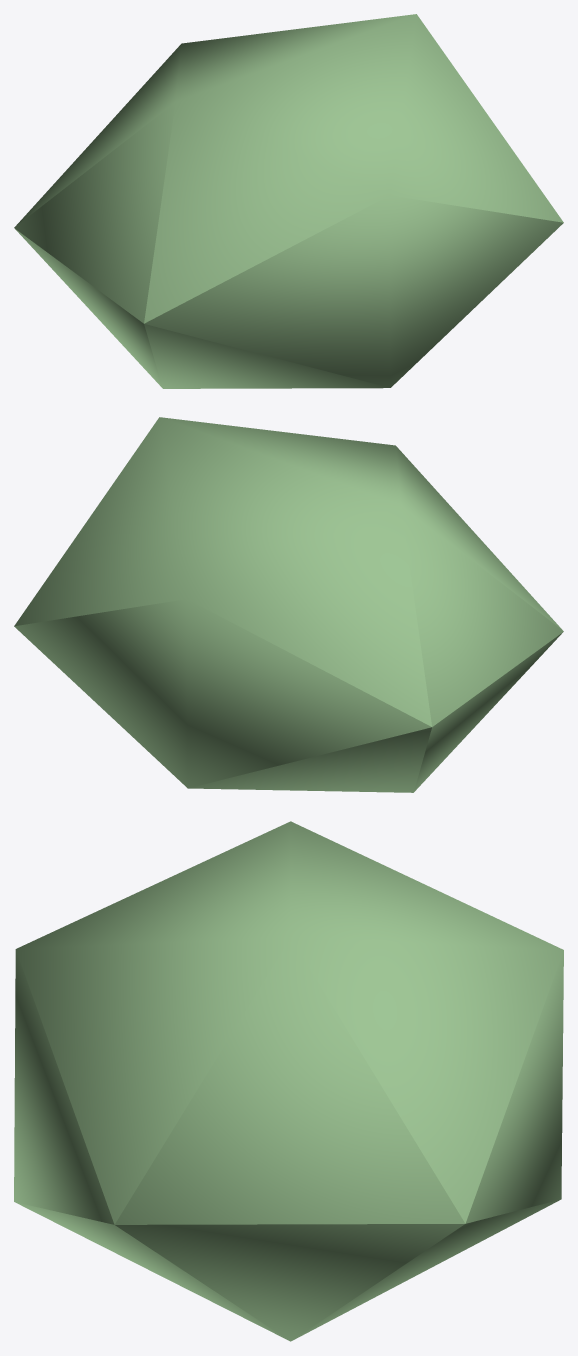
File: shrub-a-far.glb
The picture shows the model from 3 angles, top to bottom: view 1: azimuth 30°, elevation 25°; view 2: azimuth 150°, elevation 25°; view 3: azimuth 270°, elevation 25°; orthographic projection. The views are drawn at different scales.
Parts seen in each view (by area): view 1: shrub-a-far; view 2: shrub-a-far; view 3: shrub-a-far.
Part boxes in pixels (box(x1,y1,x2,y2)): shrub-a-far: box(14, 14, 563, 388); shrub-a-far: box(14, 417, 563, 792); shrub-a-far: box(14, 821, 563, 1341).
Size of the model in its own units: 1.33 by 0.9494 by 1.15.
